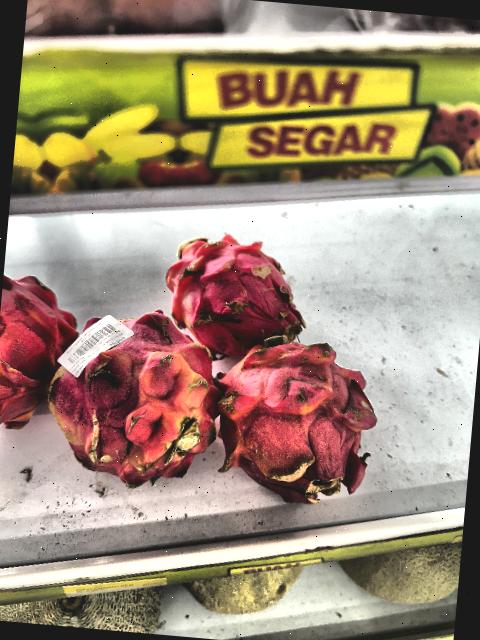buah-naga-belum-matang: (46, 316, 229, 484)
buah-naga-matang: (198, 332, 386, 508), (158, 228, 314, 352), (0, 270, 83, 433)
